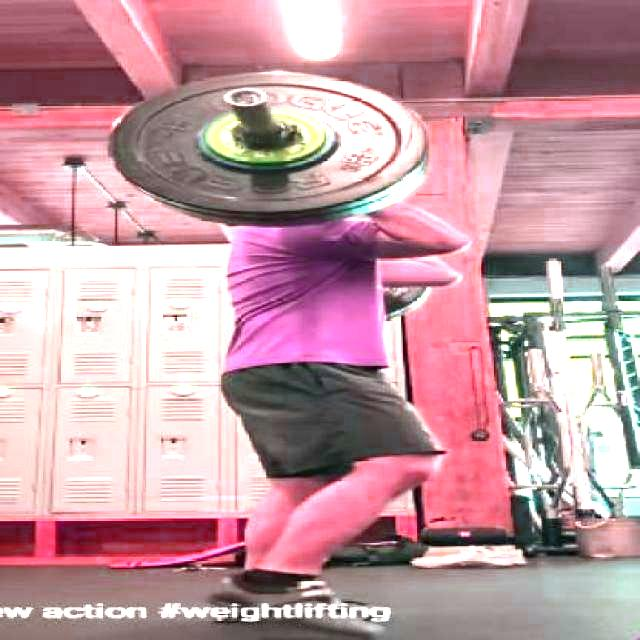barbell: (75, 65, 459, 230)
